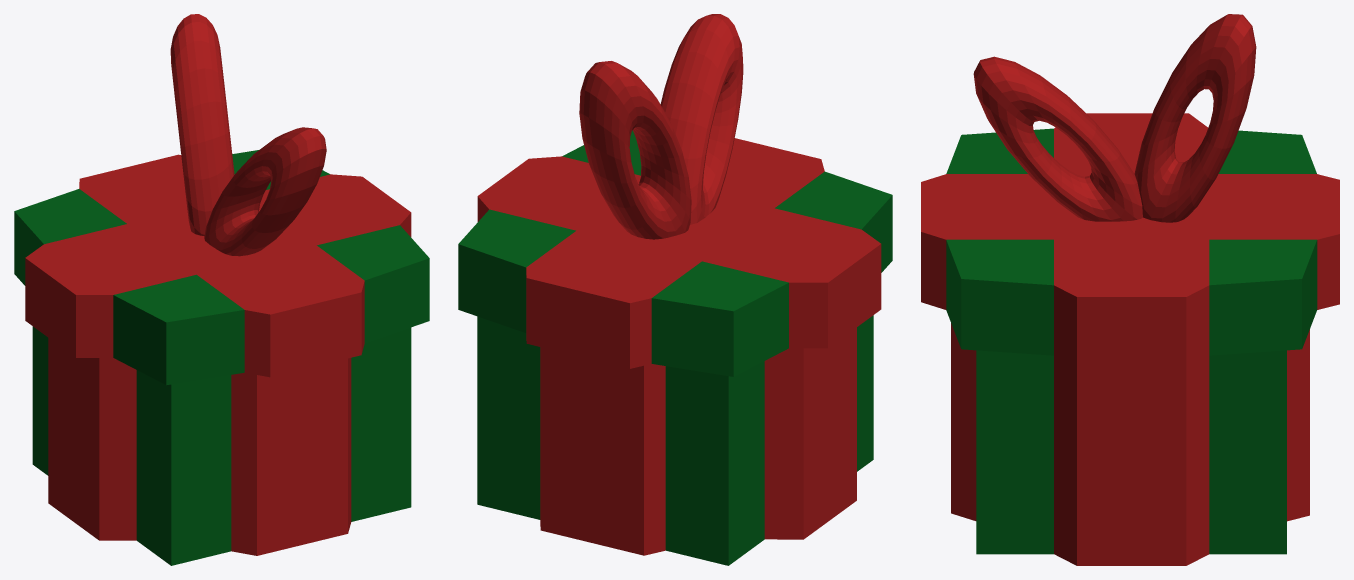
Rendered from cadeau_2.fbx.
3 views of the same model, side by side, from view 1: azimuth 30°, elevation 25°; view 2: azimuth 150°, elevation 25°; view 3: azimuth 270°, elevation 25° (orthographic). The views are drawn at different scales.
Visible parts, largest first — view 1: pCube6; view 2: pCube6; view 3: pCube6.
Boxes of the visible parts, x1,y1,x2,y2 form: pCube6: (14,14,429,565); pCube6: (458,14,892,565); pCube6: (921,14,1339,565).
Bounding box in the file's own units: 4.94 × 6.06 × 4.76.
